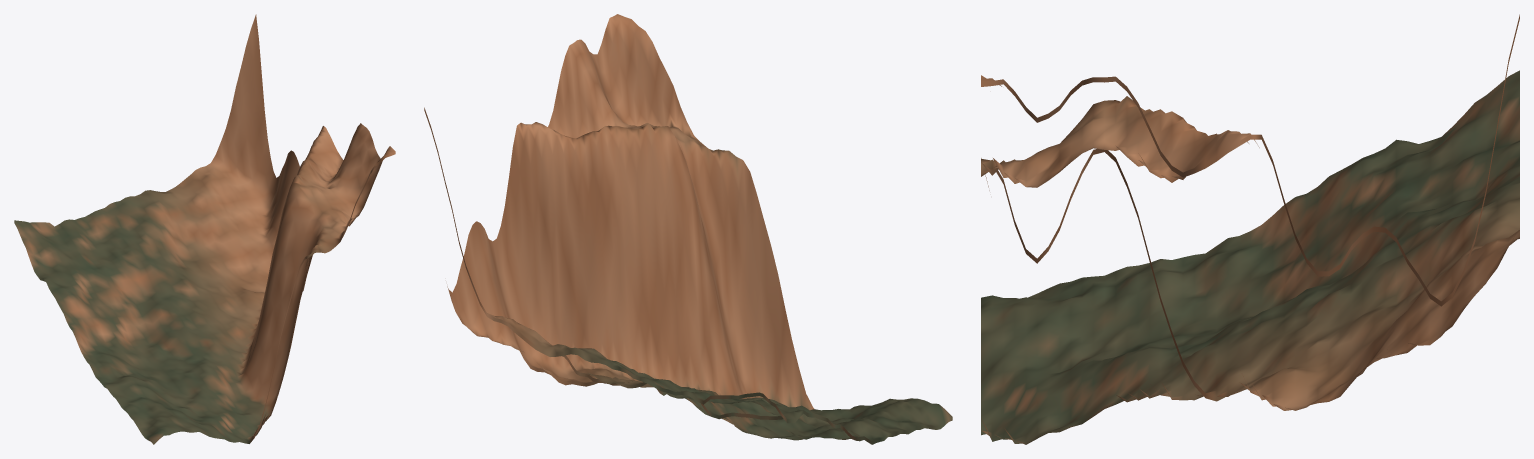
The model's file is terrain-073.glb.
3 views of the same model, side by side, from view 1: azimuth 30°, elevation 25°; view 2: azimuth 150°, elevation 25°; view 3: azimuth 270°, elevation 25° (orthographic). The views are drawn at different scales.
Visible parts, largest first — view 1: terrain-073; view 2: terrain-073; view 3: terrain-073.
Part boxes in pixels (left/top/right/bottom): terrain-073: left=14, top=14, right=395, bottom=444; terrain-073: left=424, top=14, right=952, bottom=444; terrain-073: left=981, top=14, right=1519, bottom=444.
Bounding box in the file's own units: 384 × 443 × 384.
